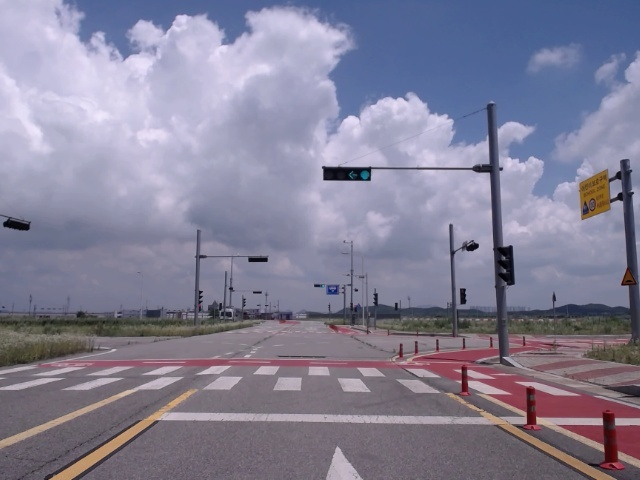all_green_4: (322, 165, 369, 180)
